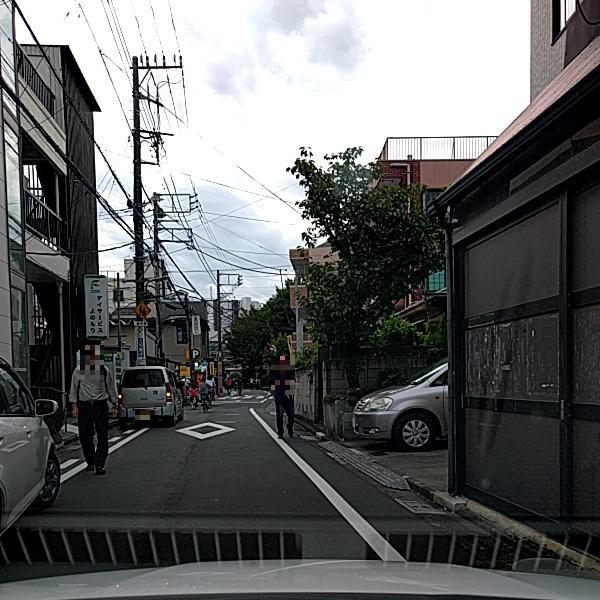D00: (168, 438, 205, 478)
